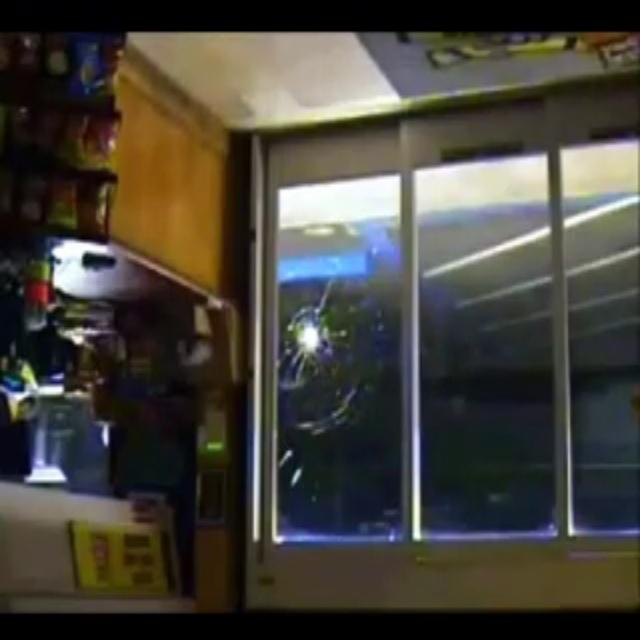crime: (261, 174, 428, 456)
